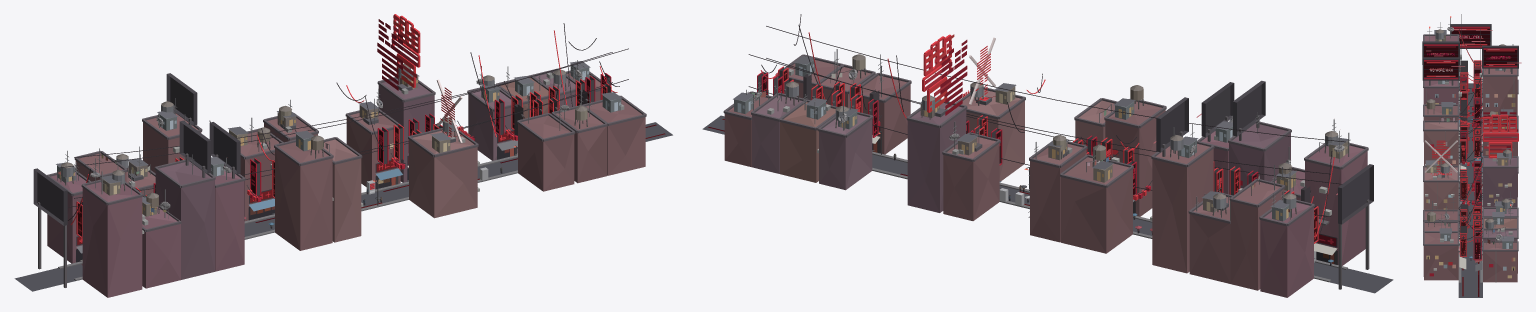
File: rebel_cell_compound.glb
3 renders of one model, left to right at view 1: azimuth 30°, elevation 25°; view 2: azimuth 150°, elevation 25°; view 3: azimuth 270°, elevation 25°, orthographic. The views are drawn at different scales.
Visible parts, largest first — view 1: hq_rebel_cell_toon, hq_rebel_cell_neon, id_ground; view 2: hq_rebel_cell_toon, hq_rebel_cell_neon, id_ground; view 3: hq_rebel_cell_toon, hq_rebel_cell_neon, id_ground, hq_rebel_cell_win.
Boxes of the visible parts, x1=… form: hq_rebel_cell_toon: x1=33, y1=23, x2=645, y2=297; hq_rebel_cell_neon: x1=47, y1=14, x2=646, y2=244; id_ground: x1=14, y1=122, x2=672, y2=291; hq_rebel_cell_toon: x1=724, y1=14, x2=1373, y2=297; hq_rebel_cell_neon: x1=723, y1=32, x2=1368, y2=263; id_ground: x1=702, y1=115, x2=1393, y2=293; hq_rebel_cell_toon: x1=1422, y1=14, x2=1518, y2=282; hq_rebel_cell_neon: x1=1423, y1=16, x2=1521, y2=270; id_ground: x1=1458, y1=83, x2=1482, y2=297; hq_rebel_cell_win: x1=1429, y1=94, x2=1511, y2=278.
Bounding box in the file's own units: 132 × 29.71 × 25.76.
